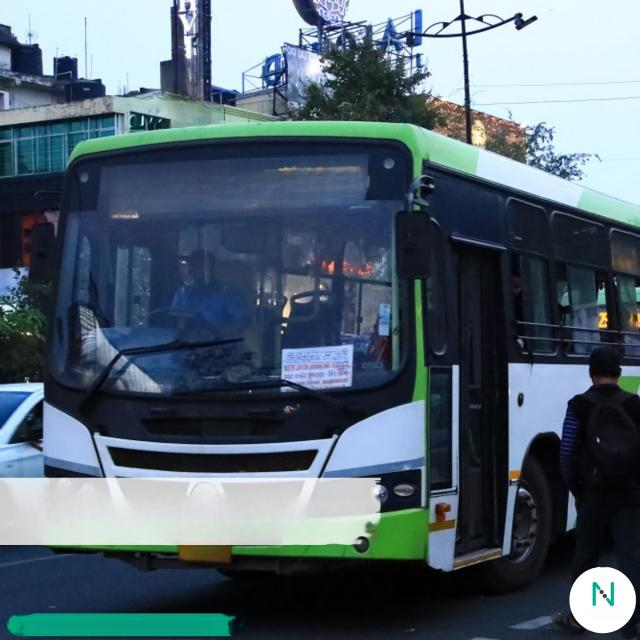bus: (40, 122, 640, 590)
